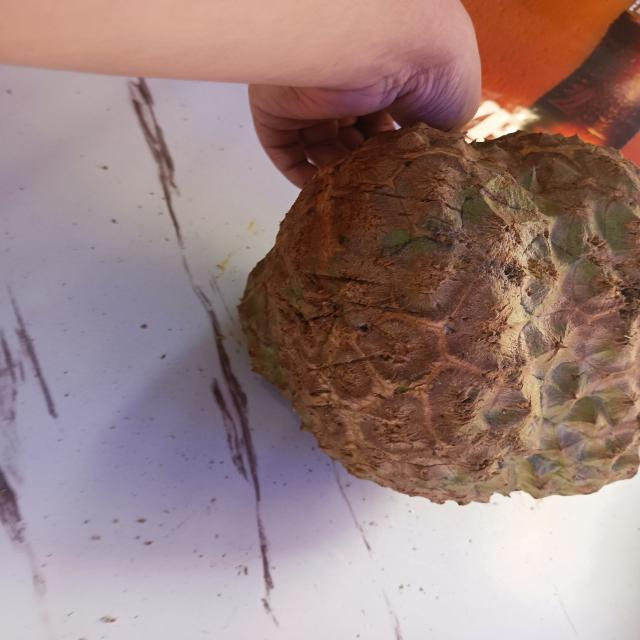mature: (239, 125, 640, 504)
